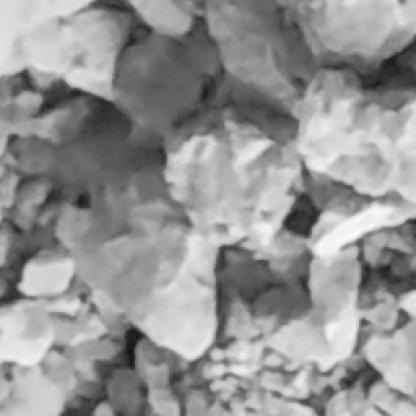cementitious_debris: (0, 2, 413, 414)
